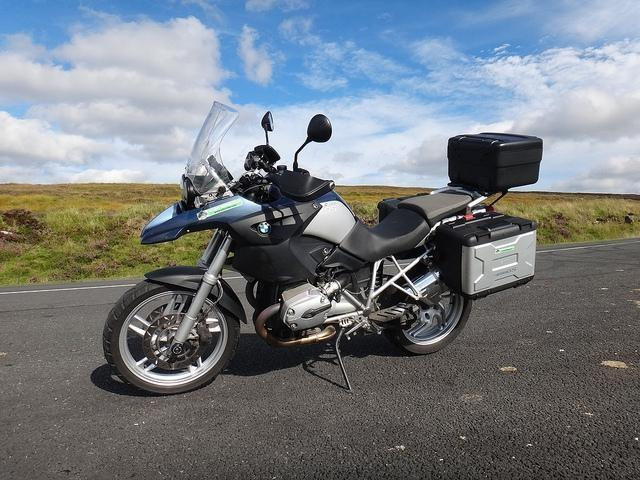motorcycle: (95, 97, 550, 397)
